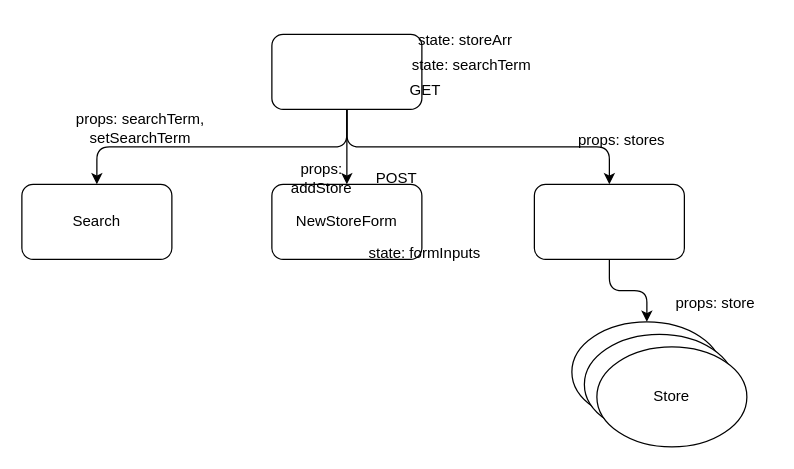
Image size: 794x469. Some labels were removed from this diagram. Here are the shapes that lost their labels. From the top down, the box of each, then its label:
(271, 33, 422, 109): App
(533, 183, 684, 259): StoreList
